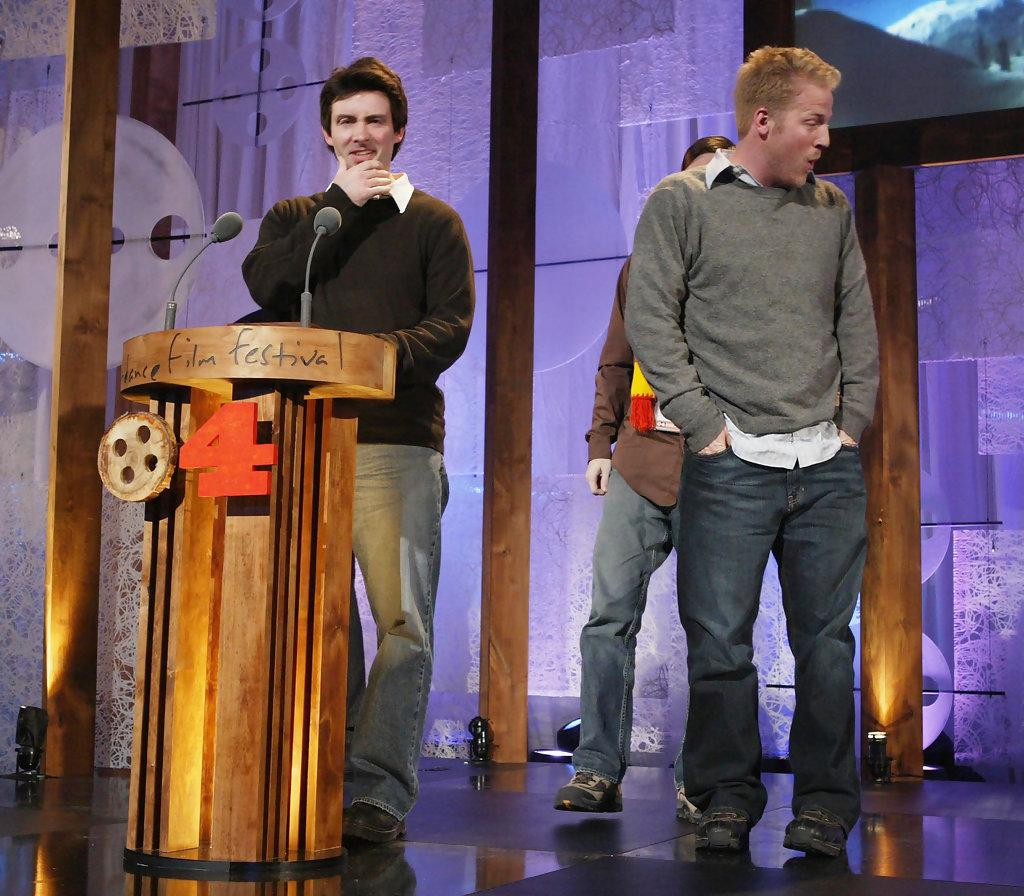face: (770, 74, 830, 184), (332, 90, 396, 184)
